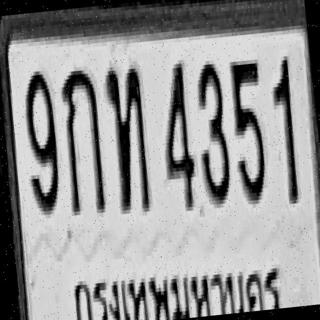A01: (56, 66, 108, 216)
A23: (103, 62, 153, 212)
N01: (268, 54, 303, 202)
N03: (191, 60, 234, 205)
N04: (156, 59, 198, 209)
N05: (226, 56, 272, 205)
N09: (19, 66, 63, 216)
P04: (66, 245, 284, 320)
